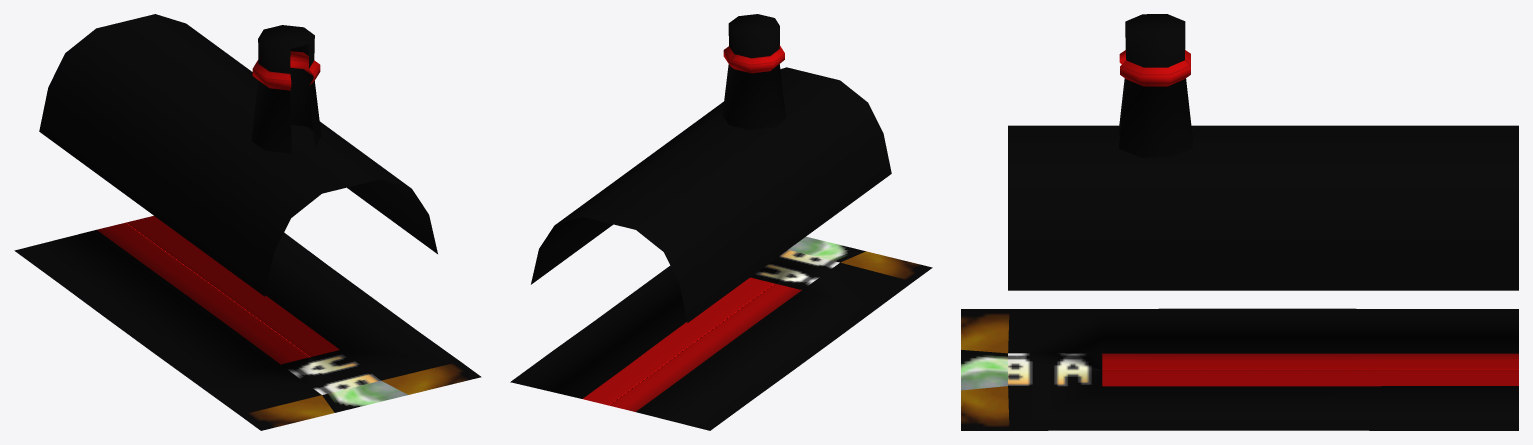
3 renders of one model, left to right at view 1: azimuth 30°, elevation 25°; view 2: azimuth 150°, elevation 25°; view 3: azimuth 270°, elevation 25°, orthographic. The views are drawn at different scales.
Visible parts, largest first — view 1: T1L1M004_11; view 2: T1L1M004_11; view 3: T1L1M004_11.
Part boxes in pixels (x1,y1,x2,y2): T1L1M004_11: (14, 14, 481, 430); T1L1M004_11: (510, 14, 932, 430); T1L1M004_11: (961, 14, 1518, 430).
Bounding box in the file's own units: 0.5957 × 0.7812 × 1.15.
